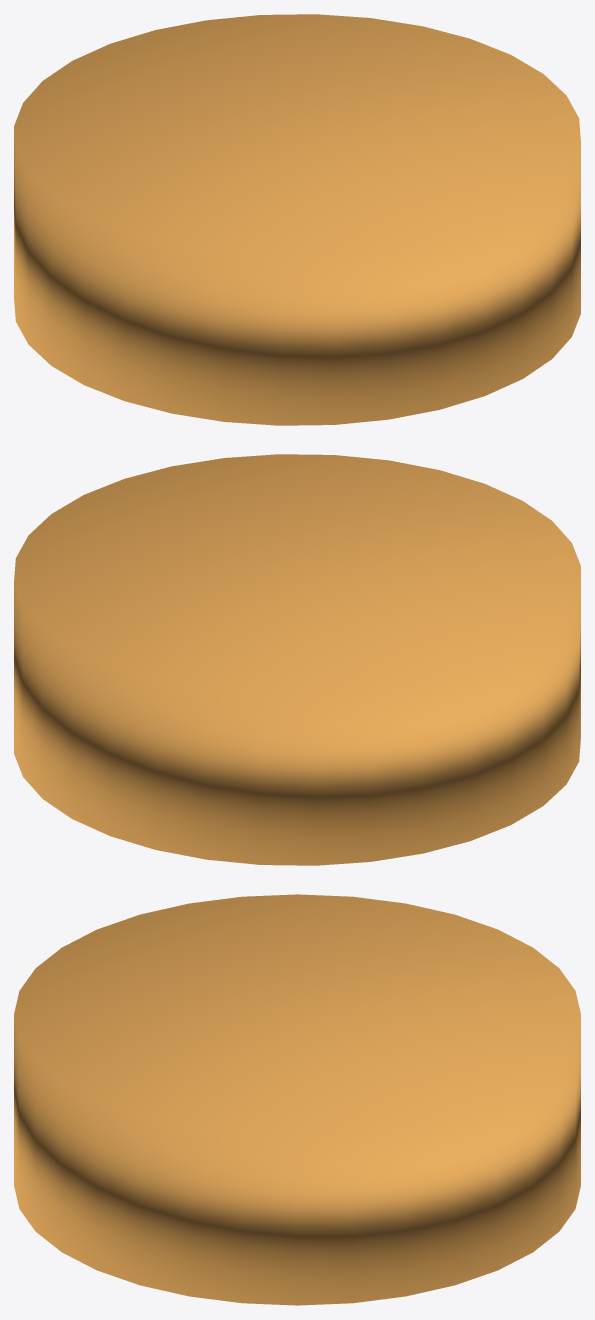
The model's file is smallCircle.glb.
The picture shows the model from 3 angles, top to bottom: view 1: azimuth 30°, elevation 25°; view 2: azimuth 150°, elevation 25°; view 3: azimuth 270°, elevation 25°; orthographic projection.
Parts seen in each view (by area): view 1: Cylinder; view 2: Cylinder; view 3: Cylinder.
Boxes of the visible parts, x1,y1,x2,y2 form: Cylinder: (14, 14, 580, 425); Cylinder: (14, 454, 580, 865); Cylinder: (14, 894, 580, 1305).
Bounding box in the file's own units: 0.5518 × 0.1842 × 0.5518.
